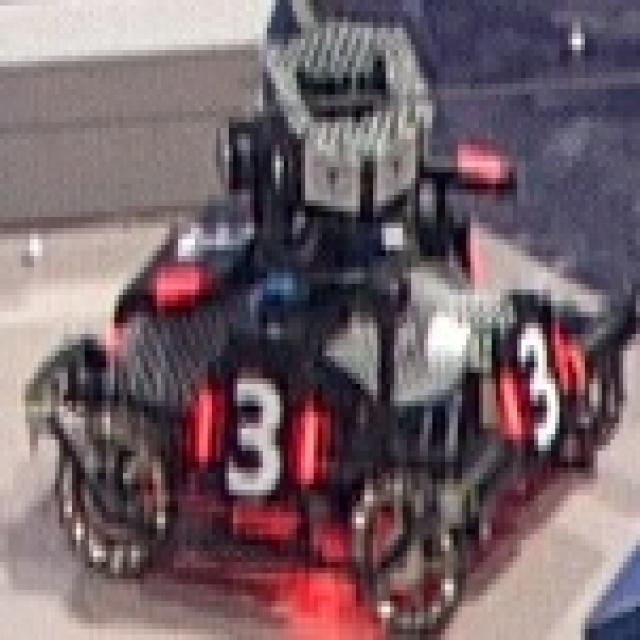R3: (182, 373, 331, 506), (140, 189, 254, 301), (488, 301, 572, 445)
